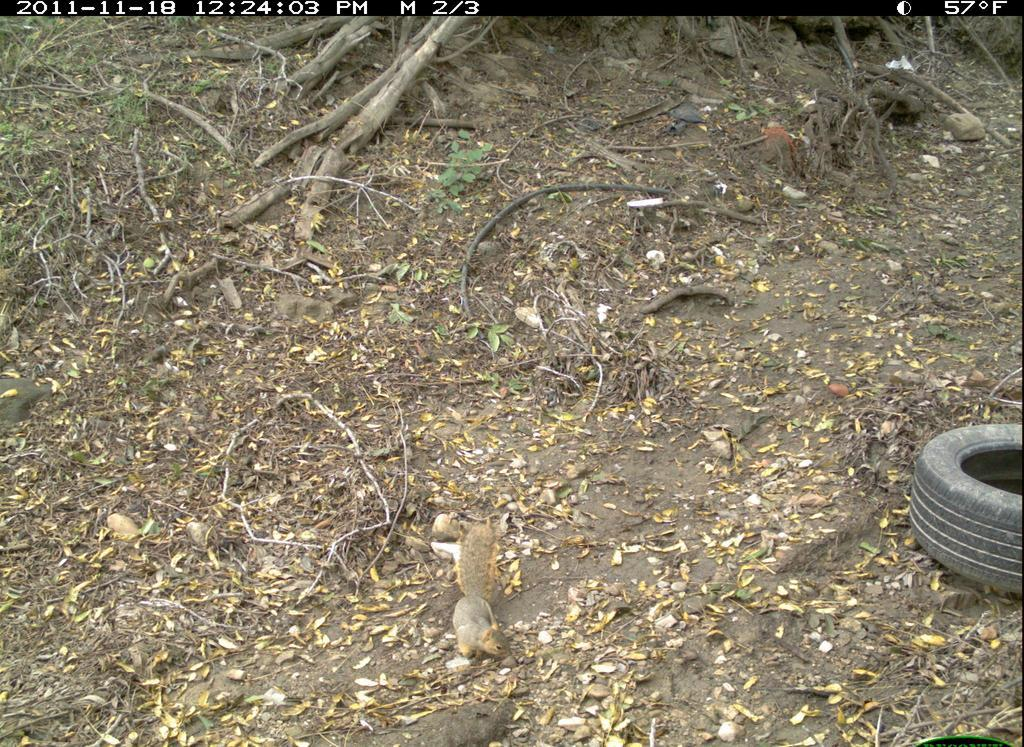squirrel: (452, 521, 514, 671)
